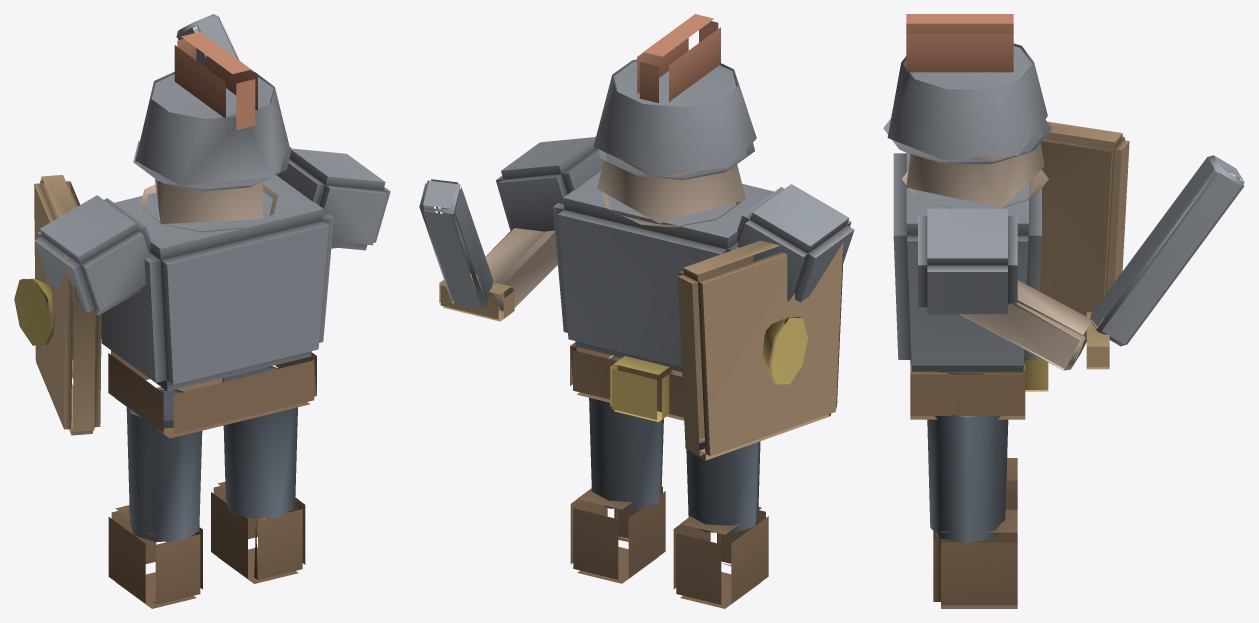
The model's file is squire_footman_lod1.glb.
3 views of the same model, side by side, from view 1: azimuth 30°, elevation 25°; view 2: azimuth 150°, elevation 25°; view 3: azimuth 270°, elevation 25° (orthographic). The views are drawn at different scales.
Visible parts, largest first — view 1: squire_footman.001; view 2: squire_footman.001; view 3: squire_footman.001.
Boxes of the visible parts, <box> form: squire_footman.001: <box>14,14,390,608</box>; squire_footman.001: <box>419,14,854,608</box>; squire_footman.001: <box>883,14,1244,608</box>.
Bounding box in the file's own units: 1.02 × 1.59 × 0.9423.
